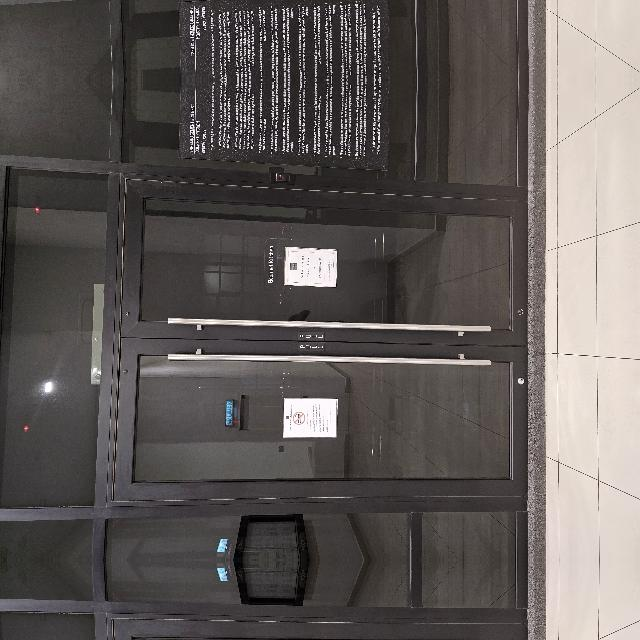door: (34, 189, 382, 615), (34, 505, 382, 640)
